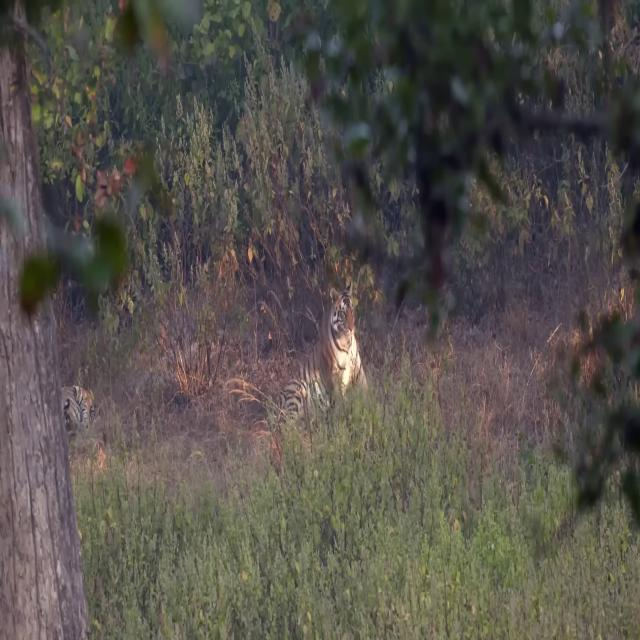tiger: (274, 279, 369, 416)
